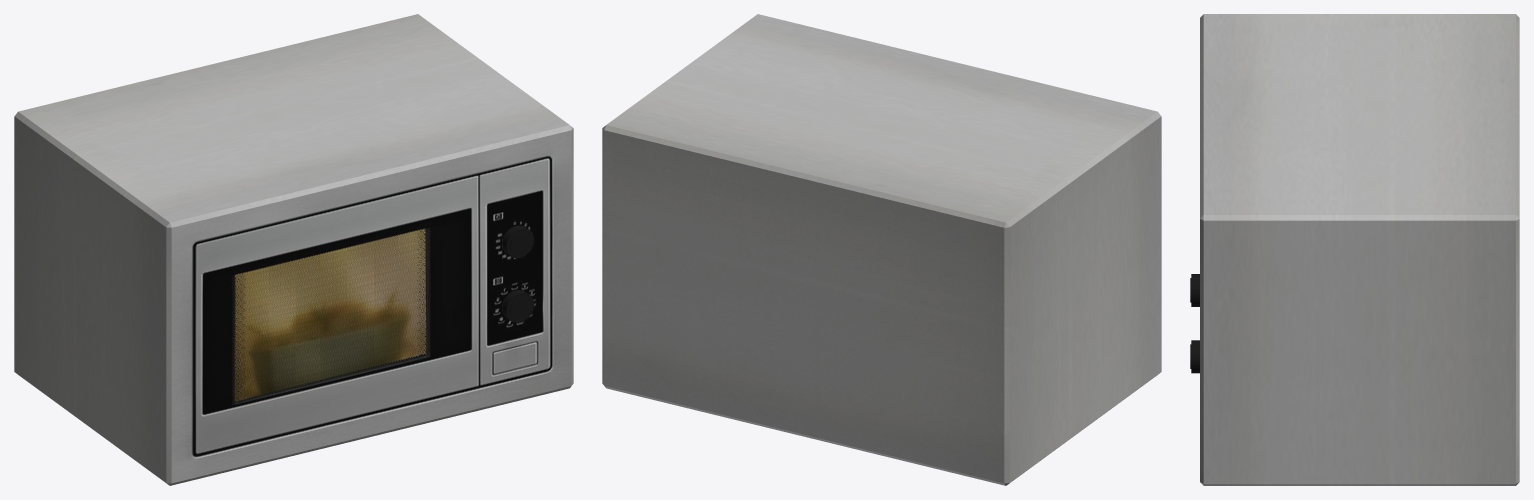
Rendered from Microwave.FBX.
3 renders of one model, left to right at view 1: azimuth 30°, elevation 25°; view 2: azimuth 150°, elevation 25°; view 3: azimuth 270°, elevation 25°, orthographic. The views are drawn at different scales.
Visible parts, largest first — view 1: Microwave; view 2: Microwave; view 3: Microwave.
Boxes of the visible parts, bbox=[...] form: Microwave: bbox=[14, 14, 573, 485]; Microwave: bbox=[602, 14, 1161, 485]; Microwave: bbox=[1190, 14, 1519, 485].
Size of the model in its own units: 54.49 by 34.52 by 37.1.
1 material, 1 textured.
